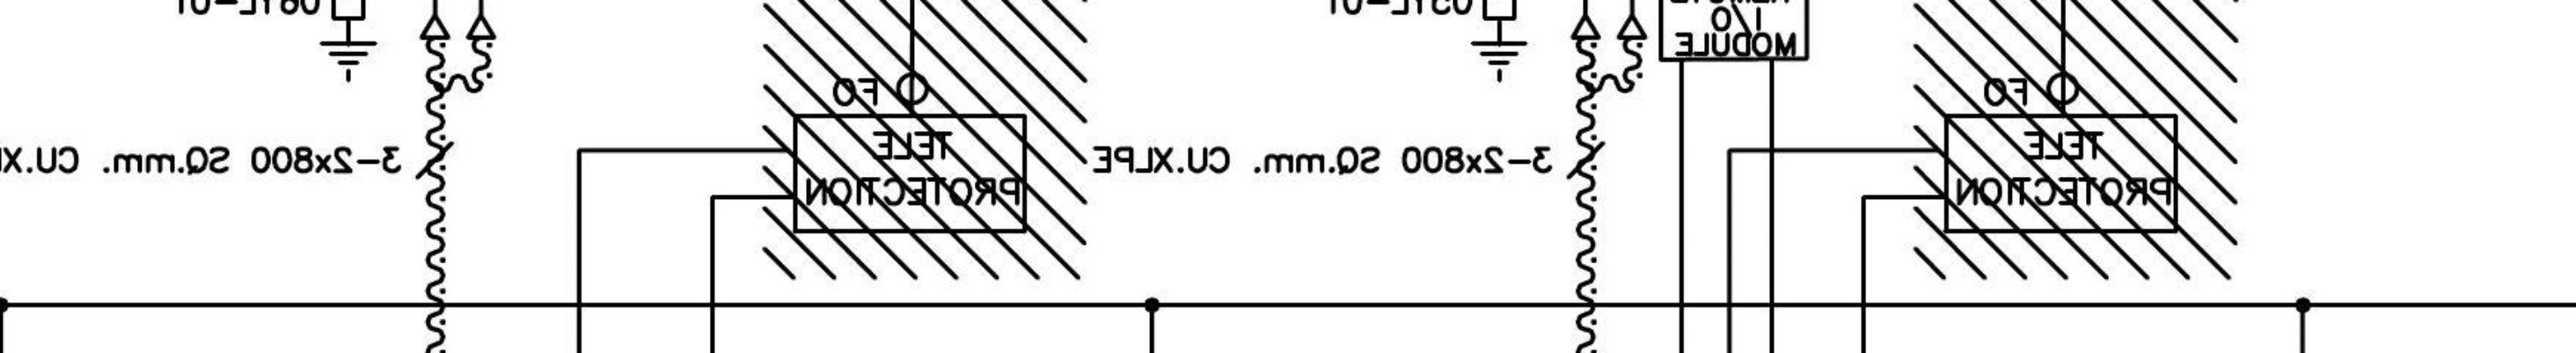tele_protection: (789, 110, 1032, 238), (1940, 110, 2182, 238)
